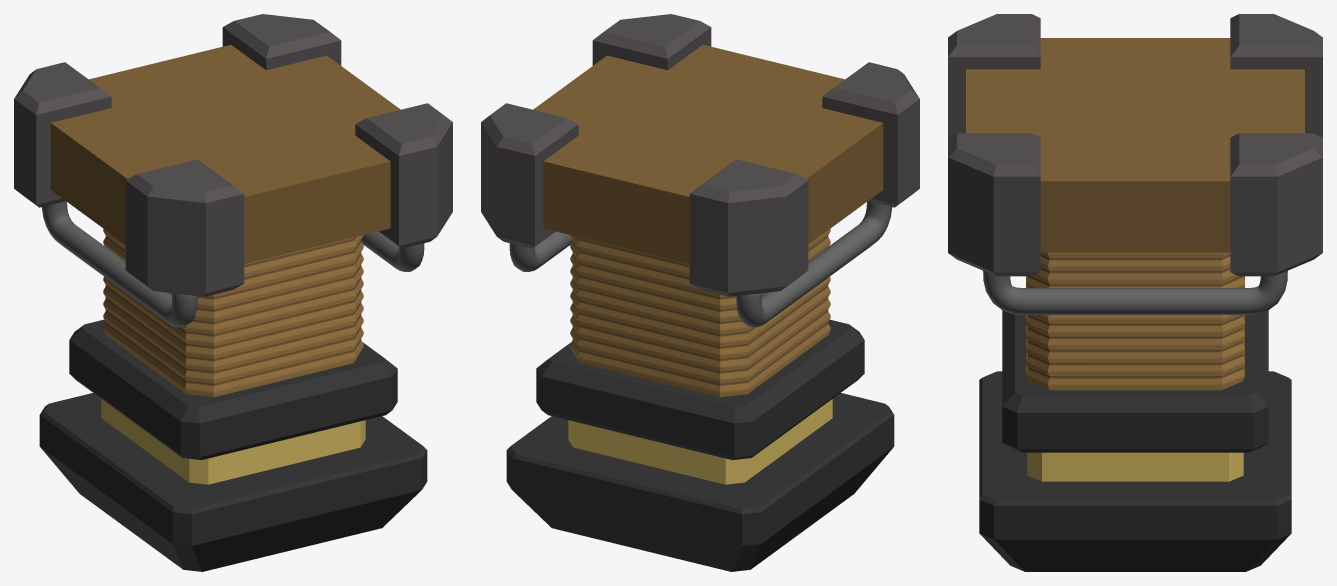
Rendered from a3_piston.fbx.
3 renders of one model, left to right at view 1: azimuth 30°, elevation 25°; view 2: azimuth 150°, elevation 25°; view 3: azimuth 270°, elevation 25°, orthographic. The views are drawn at different scales.
Visible parts, largest first — view 1: polySurface269; view 2: polySurface269; view 3: polySurface269.
Part boxes in pixels (<box>): polySurface269: <box>14,14,452,571</box>; polySurface269: <box>481,14,919,571</box>; polySurface269: <box>948,14,1322,571</box>.
Size of the model in its own units: 394 by 499 by 394.
